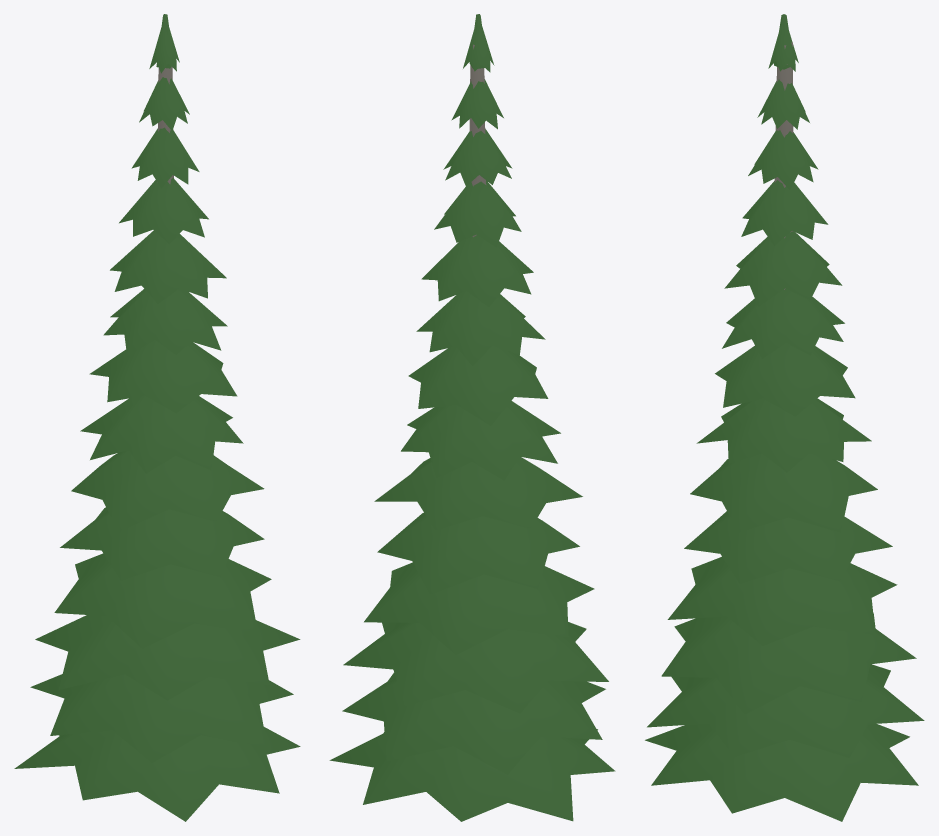
File: Blender_BalsamFir_1_Far.glb
The picture shows the model from 3 angles, left to right: view 1: azimuth 30°, elevation 25°; view 2: azimuth 150°, elevation 25°; view 3: azimuth 270°, elevation 25°; orthographic projection.
Visible parts, largest first — view 1: Blender_BalsamFir_1_Far; view 2: Blender_BalsamFir_1_Far; view 3: Blender_BalsamFir_1_Far.
Part boxes in pixels (x1,y1,x2,y2): Blender_BalsamFir_1_Far: (14,14,300,821); Blender_BalsamFir_1_Far: (329,14,615,821); Blender_BalsamFir_1_Far: (645,14,924,821).
Size of the model in its own units: 5.24 by 15.62 by 5.25.
